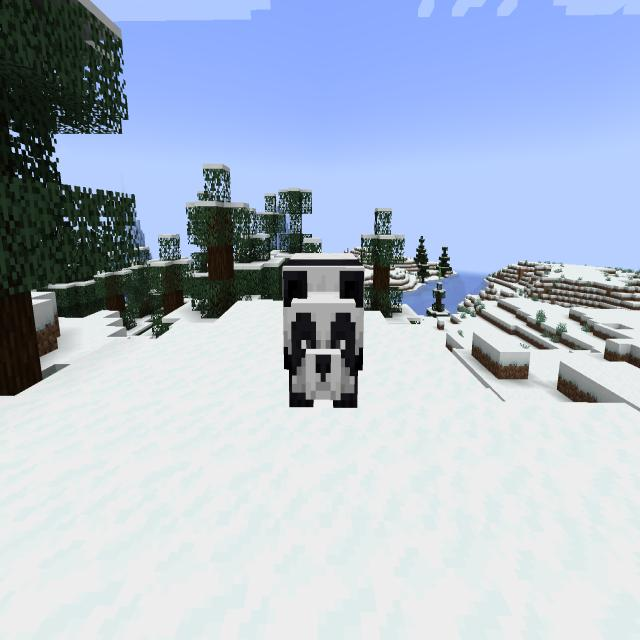Polar Bear: (271, 238, 371, 434)
